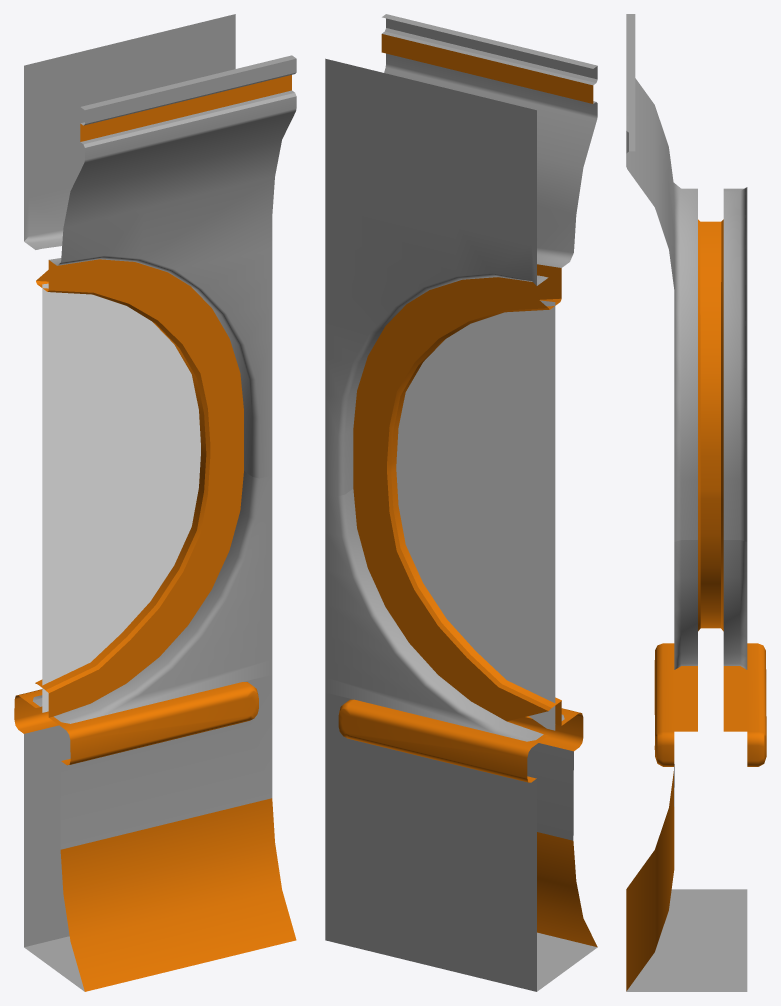
Rendered from SM_window_endcap.fbx.
3 renders of one model, left to right at view 1: azimuth 30°, elevation 25°; view 2: azimuth 150°, elevation 25°; view 3: azimuth 270°, elevation 25°, orthographic.
Parts seen in each view (by area): view 1: polySurface40; view 2: polySurface40; view 3: polySurface40.
Boxes of the visible parts, left/top/right/bottom form: polySurface40: left=14, top=14, right=296, bottom=991; polySurface40: left=325, top=14, right=597, bottom=991; polySurface40: left=626, top=14, right=766, bottom=991.
Bounding box in the file's own units: 1.01 × 3.98 × 0.5796.
